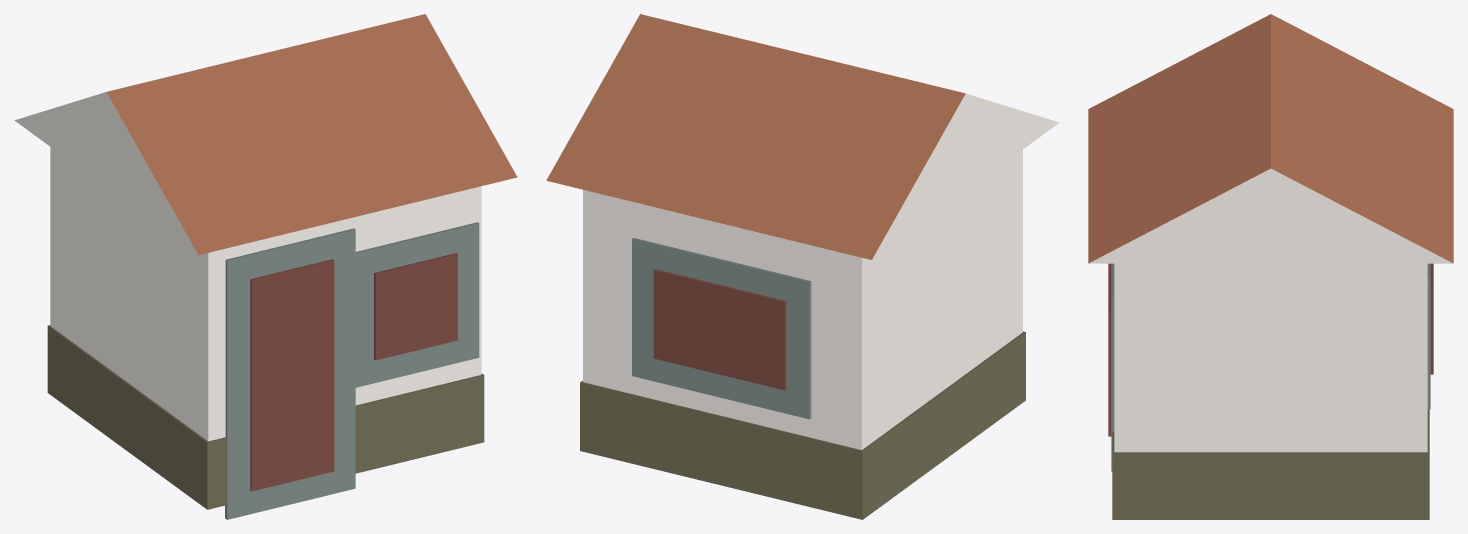
Rendered from SM_KitSueltas_v5_LOD1.fbx.
3 views of the same model, side by side, from view 1: azimuth 30°, elevation 25°; view 2: azimuth 150°, elevation 25°; view 3: azimuth 270°, elevation 25° (orthographic). The views are drawn at different scales.
Visible parts, largest first — view 1: SM_bloques.kit_sueltas_v5_LOD1; view 2: SM_bloques.kit_sueltas_v5_LOD1; view 3: SM_bloques.kit_sueltas_v5_LOD1.
Boxes of the visible parts, x1,y1,x2,y2 form: SM_bloques.kit_sueltas_v5_LOD1: [14, 14, 517, 519]; SM_bloques.kit_sueltas_v5_LOD1: [546, 14, 1059, 519]; SM_bloques.kit_sueltas_v5_LOD1: [1088, 14, 1453, 519].
Bounding box in the file's own units: 3.48 × 3.95 × 3.48.
